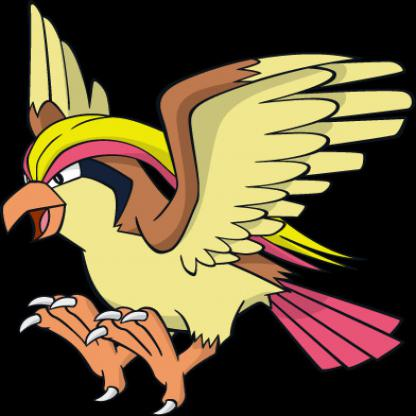Pidgeot: (1, 4, 404, 416)
